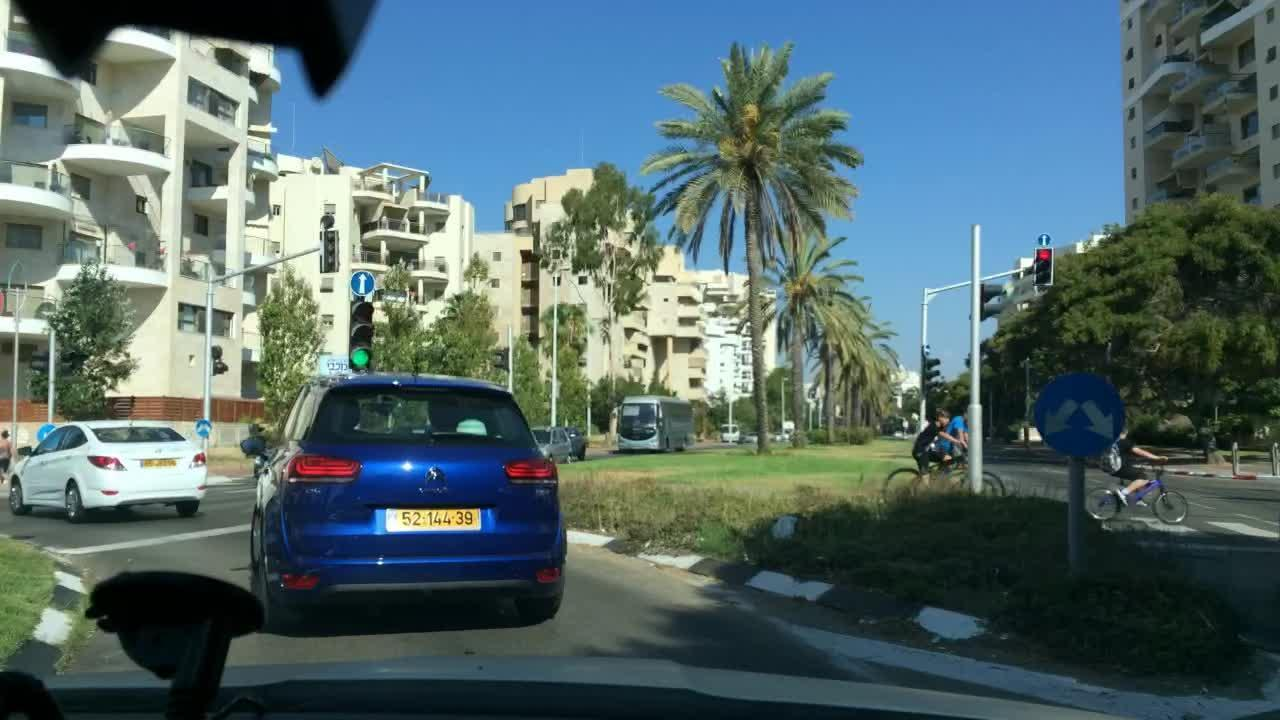Citroen: (422, 462, 451, 487)
